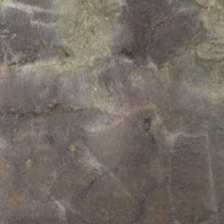Crack: (0, 50, 134, 82)
